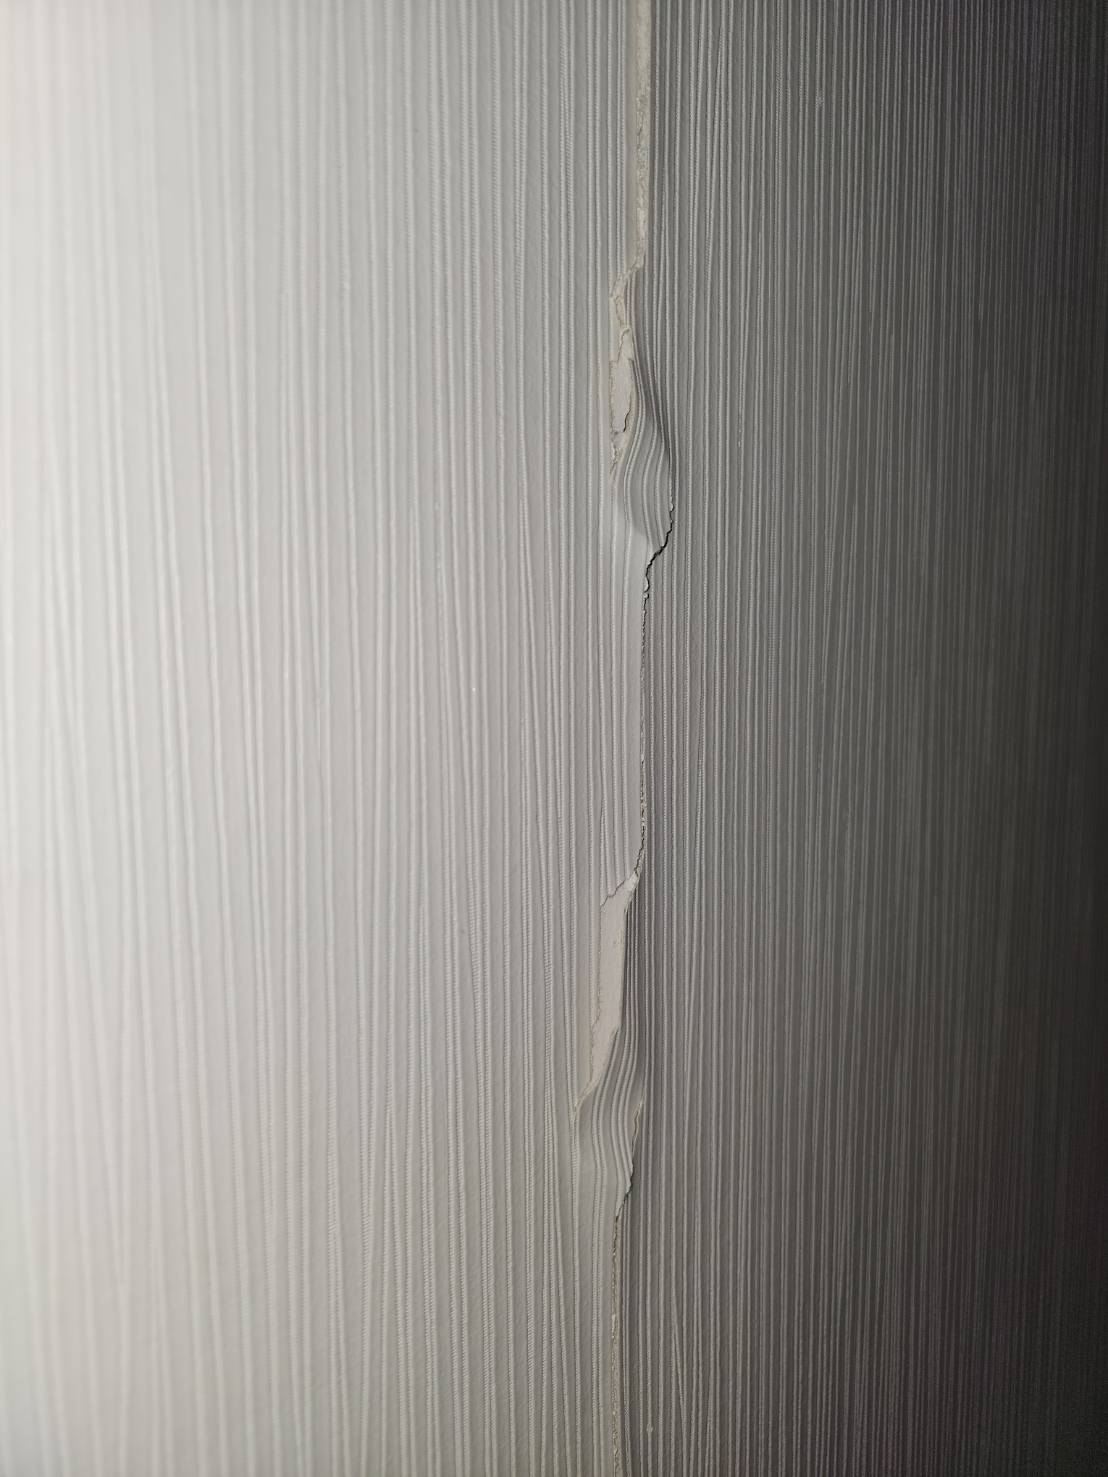Low: (566, 2, 681, 1477)
